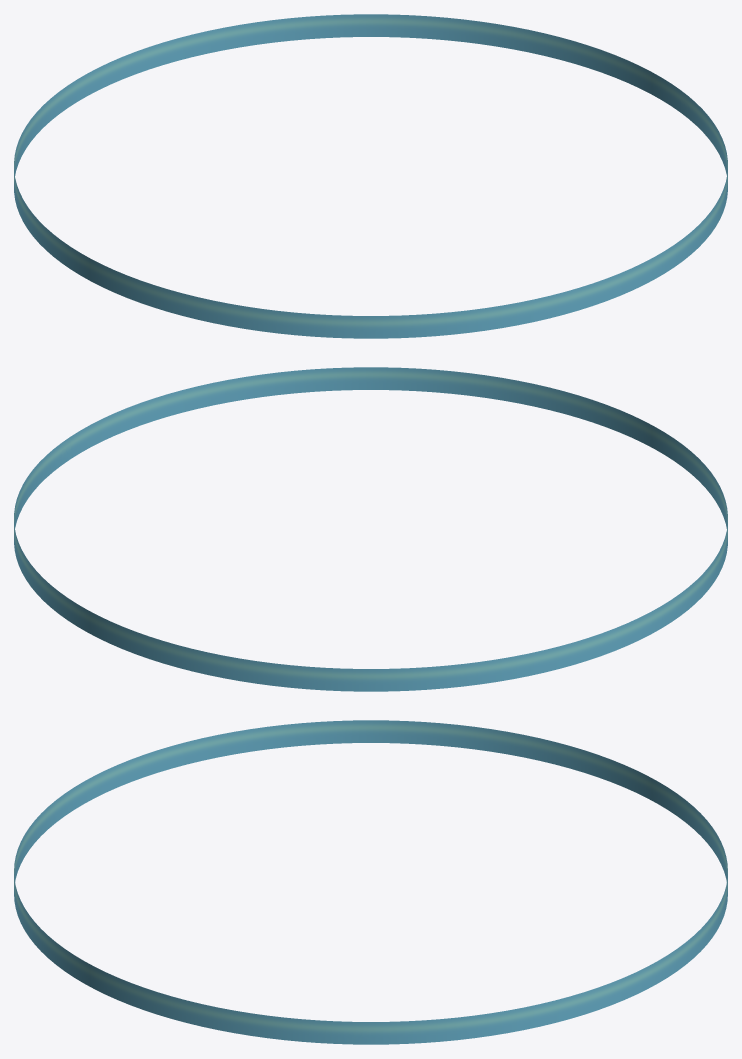
Rendered from ArenaGlassWall.obj.
The picture shows the model from 3 angles, top to bottom: view 1: azimuth 30°, elevation 25°; view 2: azimuth 150°, elevation 25°; view 3: azimuth 270°, elevation 25°; orthographic projection.
Visible parts, largest first — view 1: ArenaGlassWall; view 2: ArenaGlassWall; view 3: ArenaGlassWall.
Boxes of the visible parts, left/top/right/bottom form: ArenaGlassWall: left=14, top=14, right=727, bottom=338; ArenaGlassWall: left=14, top=367, right=727, bottom=691; ArenaGlassWall: left=14, top=720, right=727, bottom=1044.
Bounding box in the file's own units: 40 × 1.4 × 40.
Materials: 1 (1 with a texture image).
